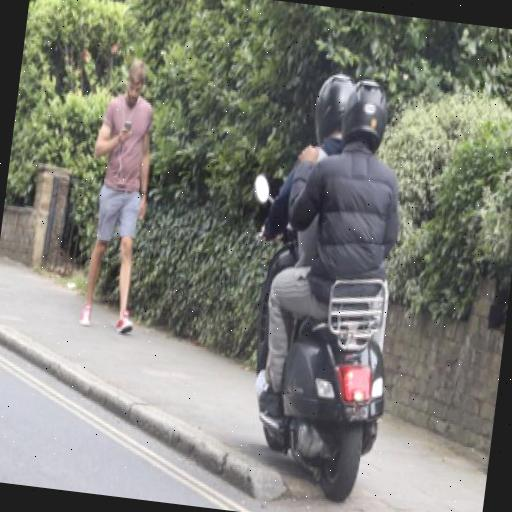helmet: (220, 44, 447, 494)
